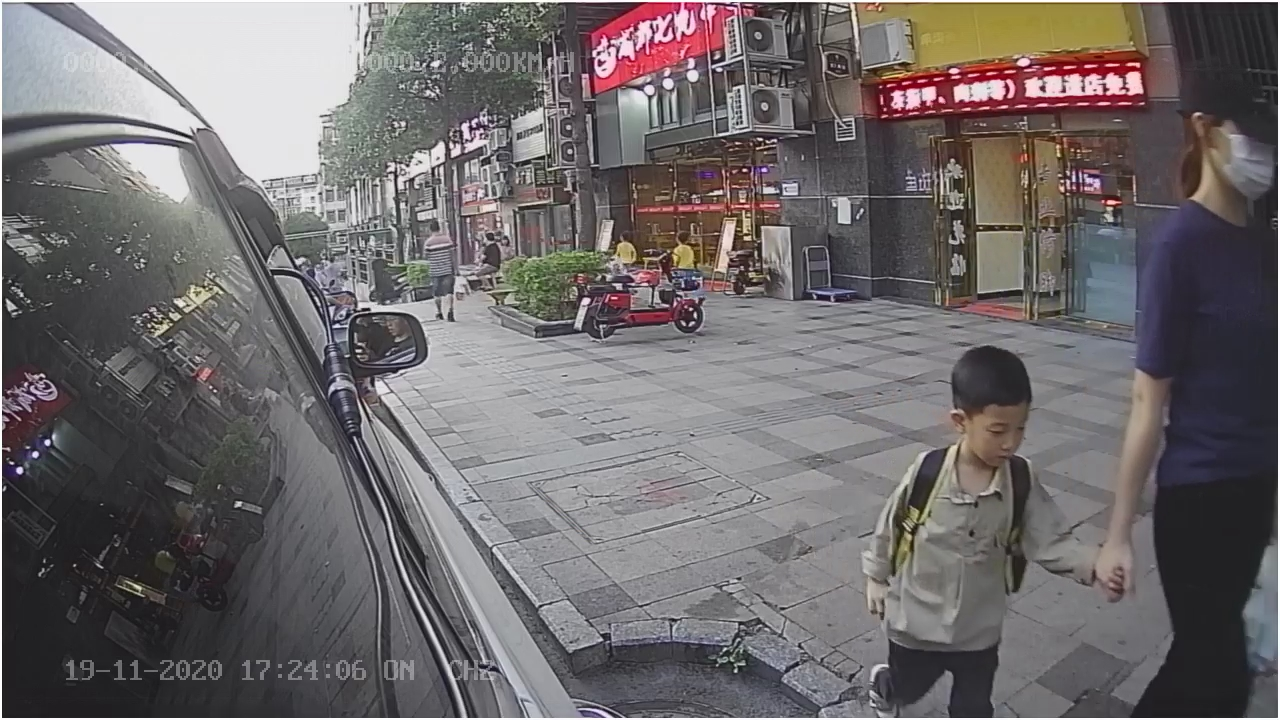person: (846, 339, 1103, 720)
